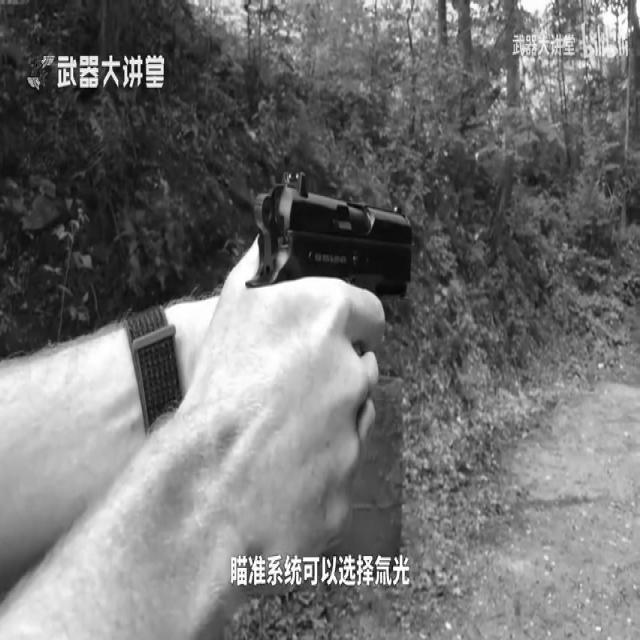Hand-Gun: (235, 148, 459, 322)
